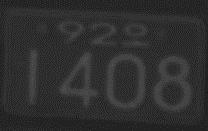0: (104, 53, 146, 111)
1: (17, 48, 48, 106)
2: (89, 20, 116, 46)
4: (58, 51, 98, 107)
8: (151, 54, 194, 113)
9: (57, 18, 85, 45)
오: (119, 21, 149, 48)
